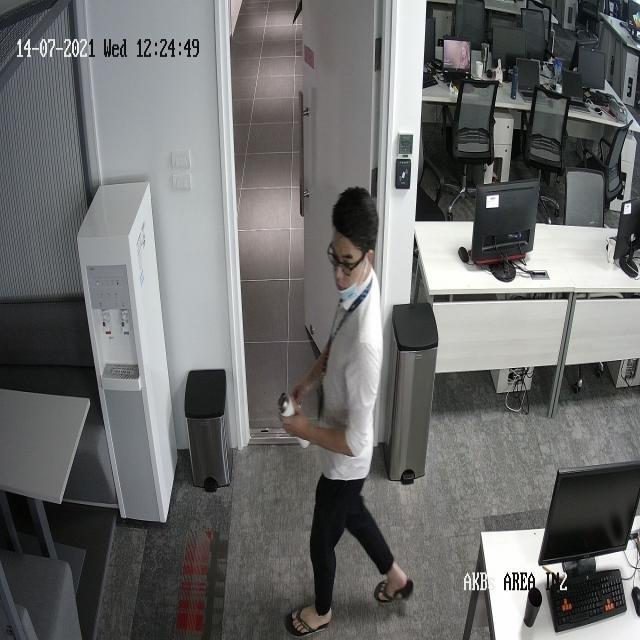hairnet: (331, 239, 371, 310)
